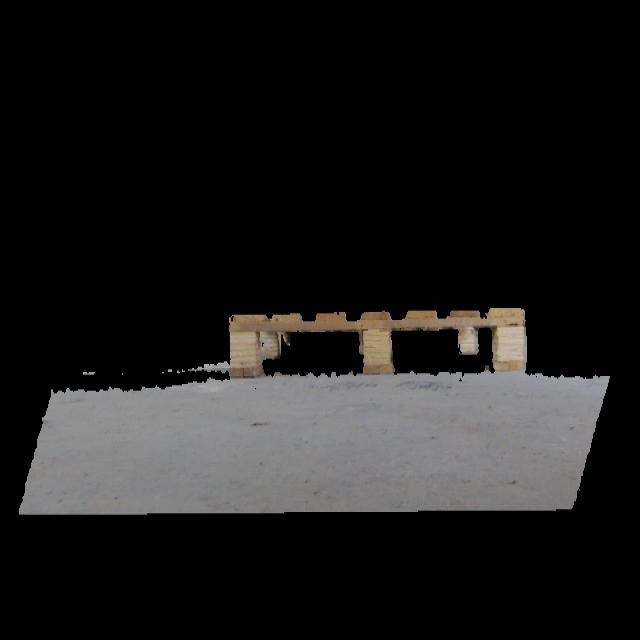block: (494, 316, 526, 375), (362, 316, 394, 374), (228, 319, 256, 379), (457, 321, 479, 356), (262, 322, 278, 360)
front: (223, 309, 529, 385)
